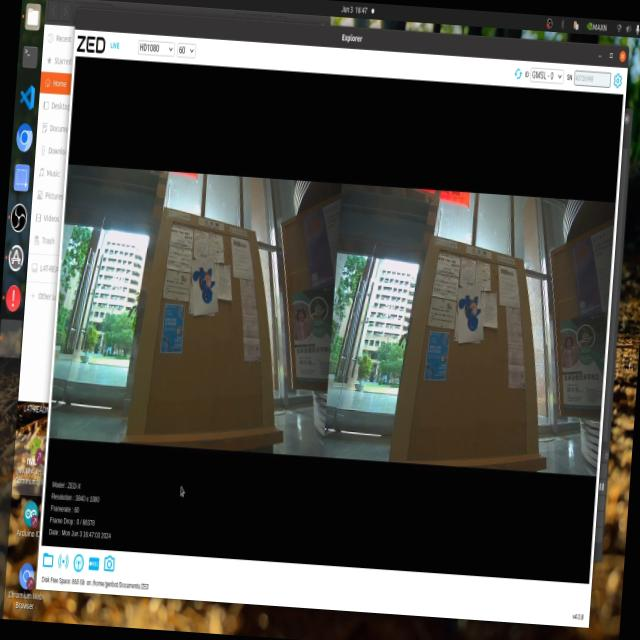blue: (179, 256, 224, 322), (452, 288, 485, 340)
